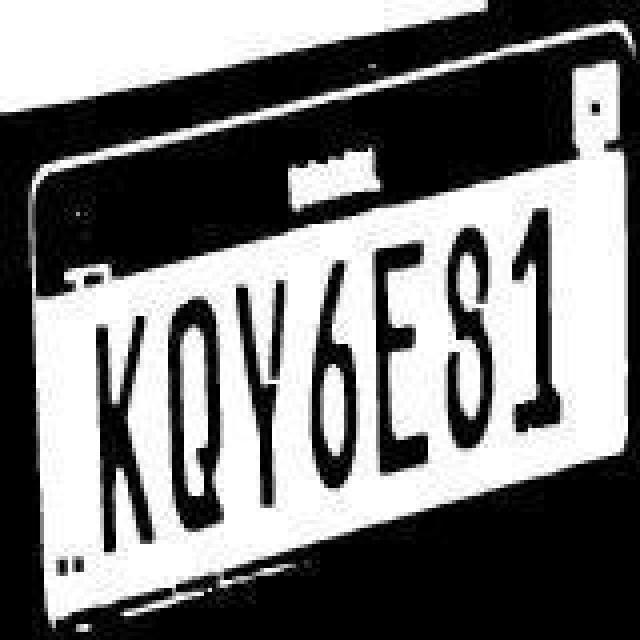1: (512, 210, 576, 446)
6: (308, 246, 364, 506)
8: (438, 222, 506, 466)
E: (372, 238, 436, 482)
K: (94, 316, 162, 564)
Q: (162, 280, 222, 536)
Y: (232, 268, 296, 516)
